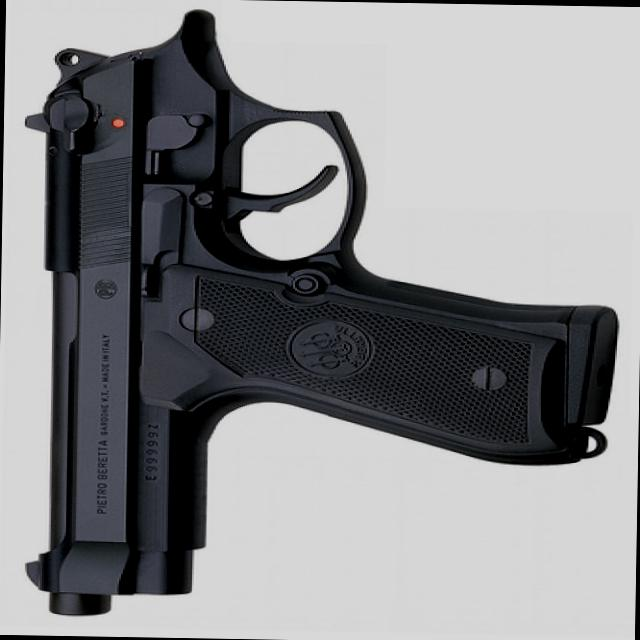handgun: (16, 4, 624, 624)
